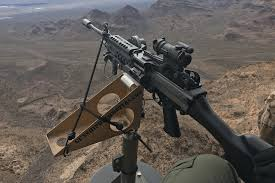gun: (80, 17, 273, 180)
